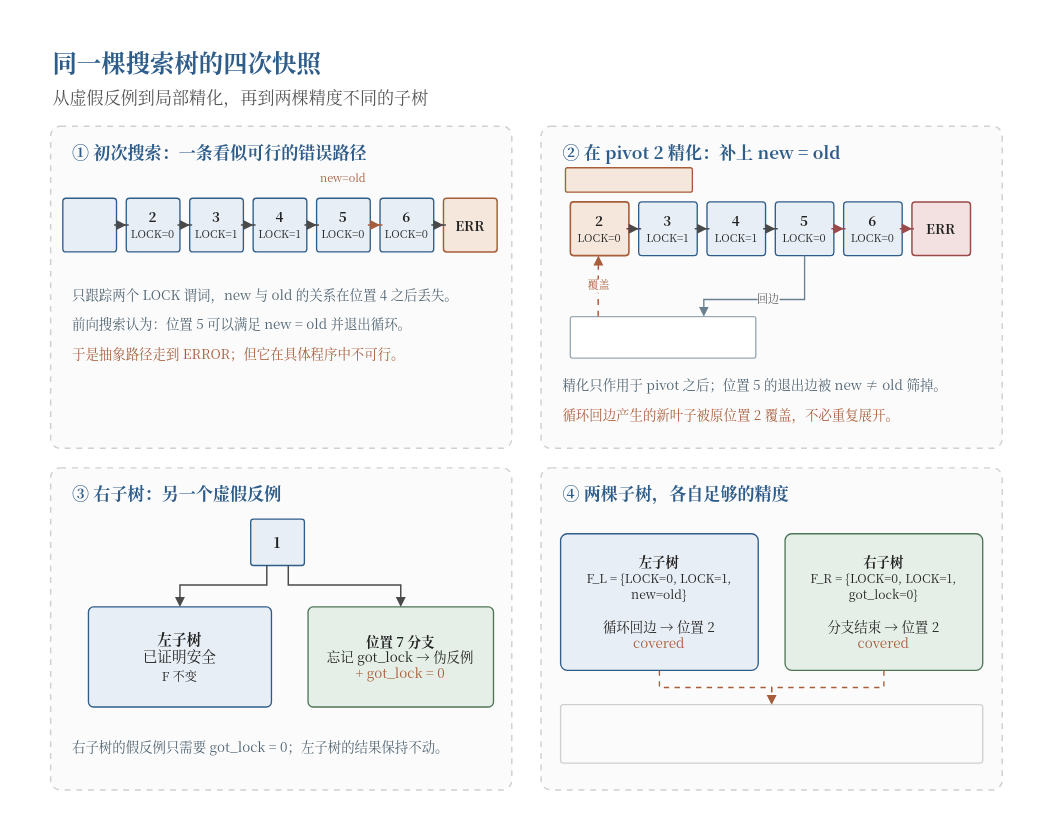
The diagram is 1052 pixels wide and 834 high, and some of its shapes have lost their labels. Each missing label, with the centre of its shape:
"1 LOCK=0" goes at pixel 89 224.
"2′ LOCK=0 ∧ new ≠ old" goes at pixel 662 336.
"F ∪ {new = old}" goes at pixel 628 179.
"同一棵树，不同节点可以有不同的 F；共同回边由位置 2 覆盖。" goes at pixel 771 733.
